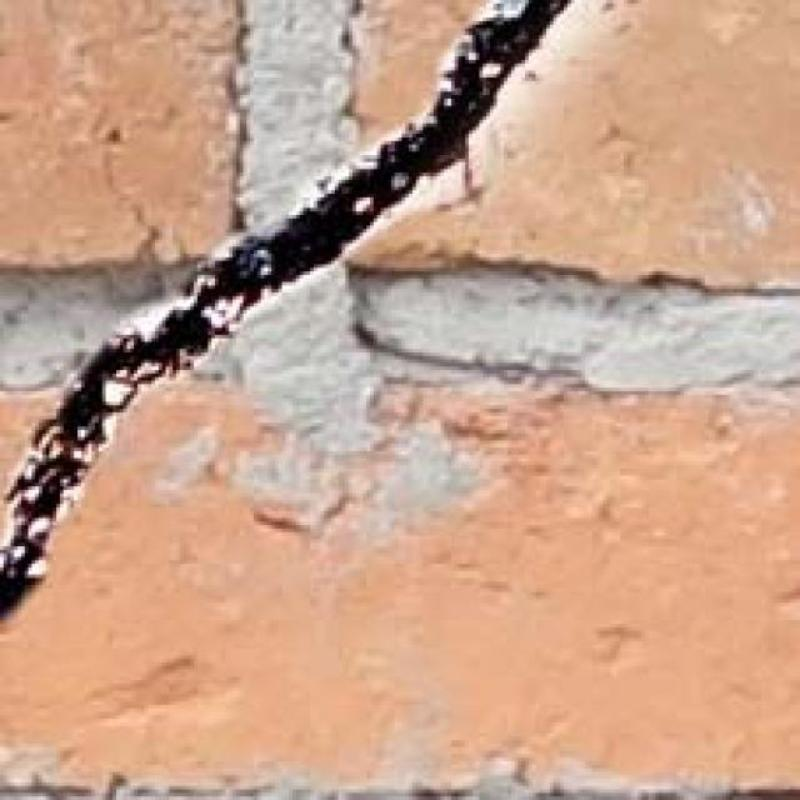pothole: (0, 0, 568, 615)
